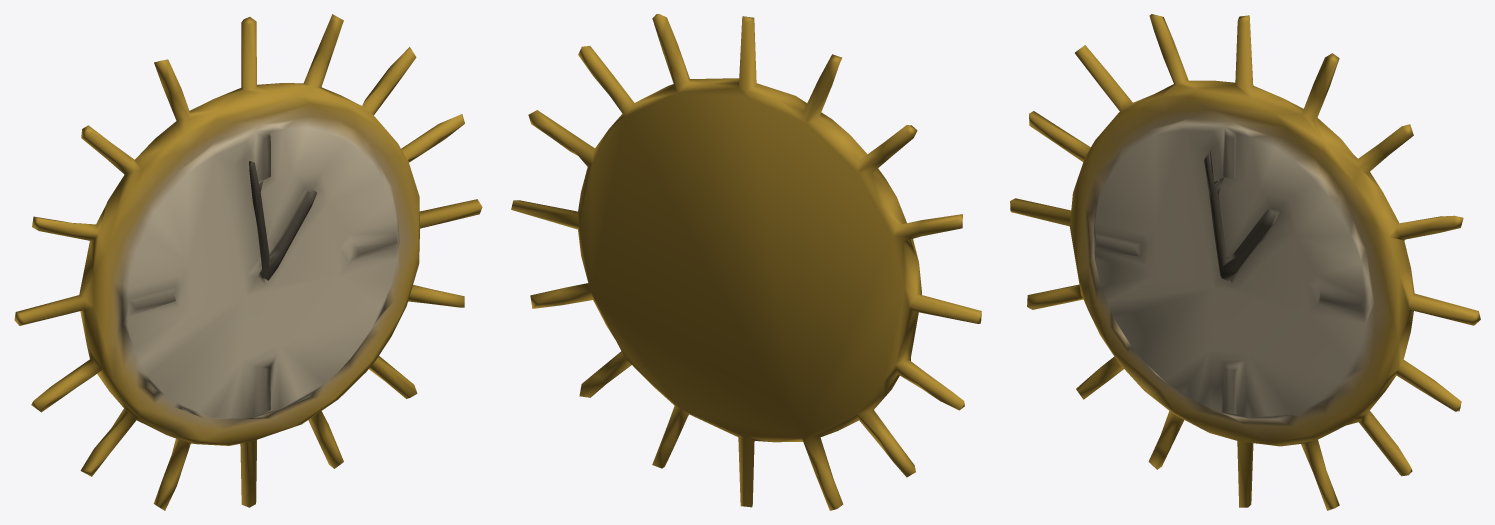
Rendered from lumiere-wall-clock.glb.
3 renders of one model, left to right at view 1: azimuth 30°, elevation 25°; view 2: azimuth 150°, elevation 25°; view 3: azimuth 330°, elevation 25°, orthographic.
Parts seen in each view (by area): view 1: lumiere-wall-clock_LOD0; view 2: lumiere-wall-clock_LOD0; view 3: lumiere-wall-clock_LOD0.
Part boxes in pixels (x1=…): lumiere-wall-clock_LOD0: x1=14, y1=14, x2=482, y2=510; lumiere-wall-clock_LOD0: x1=511, y1=14, x2=981, y2=510; lumiere-wall-clock_LOD0: x1=1010, y1=14, x2=1480, y2=510.
Size of what is drawn, in the model's own units: 0.8356 by 0.8378 by 0.0837.
